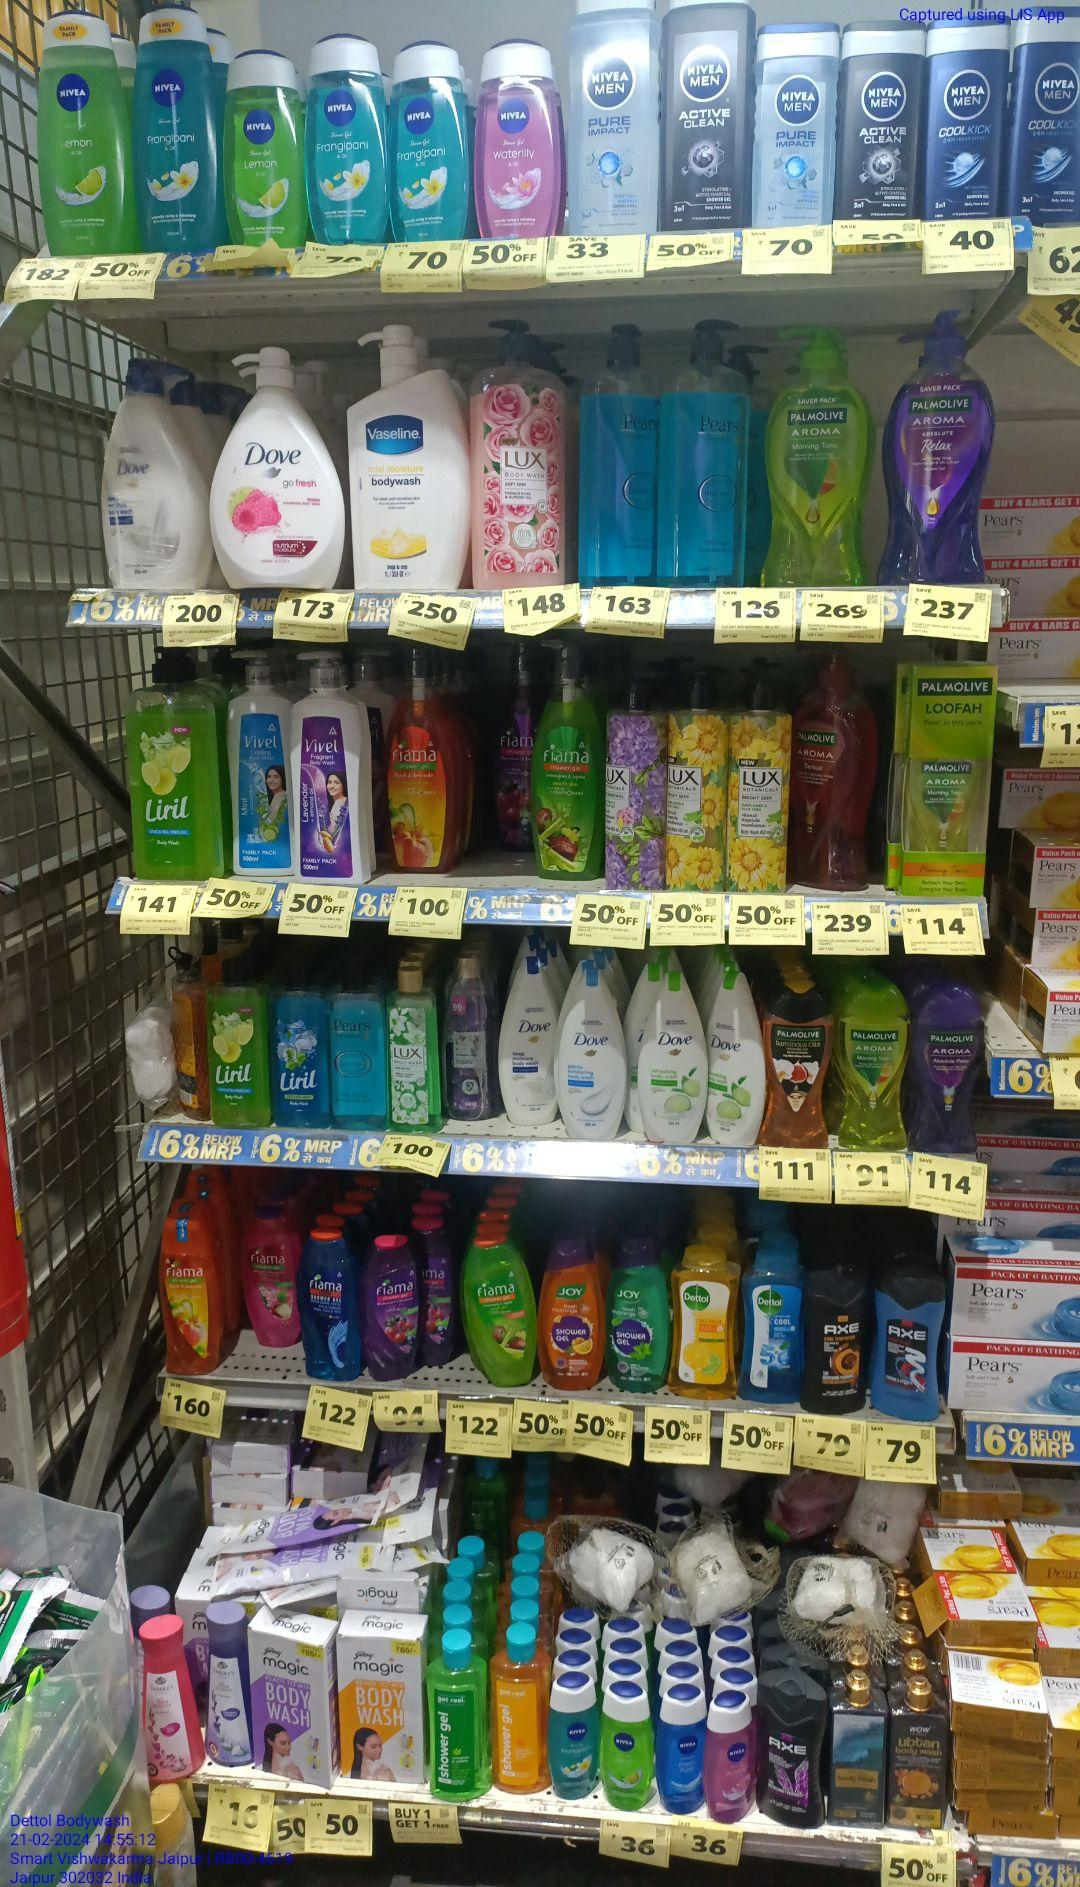Dettol_Bodywash_Cool: (738, 1247, 803, 1405)
Dettol_Bodywash_Refresh: (669, 1242, 738, 1402)
Dove_Deep_Moisture_Body_Wash_250ML: (498, 955, 556, 1126)
Dove_Gentle_Exfoliating_Body_Wash_250ML: (555, 966, 629, 1138)
Dove_Refreshing_Body_Wash_250ML: (638, 969, 709, 1143), (709, 969, 765, 1146)
Fiama_Shower_Gel_Lemongrass_and_Jojoba_250ML: (463, 1233, 537, 1387)
Joy_Shower_Gel_Mandarin_and_Lemongrass_250ML: (537, 1234, 604, 1393)
Joy_Shower_Gel_Mint_and_Eucalyptus_250ML: (605, 1235, 669, 1392)
Liril_Cooling_Mint_Body_Wash_250ML: (270, 971, 329, 1129)
Liril_Lime_and_Tea_Tree_Oil_Body_Wash_250ML: (206, 963, 271, 1129)
Lux_Black_Orchid_Scent_and_Juniper_Oil_Body_Wash_245ML: (445, 955, 498, 1121)
Lux_Body_Wash_Skin_Detox_Freesia_Scent_and_Alove_Vera_245ML: (385, 966, 443, 1133)
Nivea_Shower_Gel_Frangipani_and_Oil_250ML: (134, 3, 222, 251), (385, 38, 473, 242), (303, 31, 386, 246), (546, 1671, 599, 1799)
Nivea_Shower_Gel_Lemon_and_Oil_250ML: (39, 8, 131, 254), (220, 48, 306, 246), (600, 1680, 655, 1813)
Nivea_Shower_Gel_Waterlily_and_Oil_250ML: (473, 35, 564, 238), (705, 1689, 757, 1823)
Palmolive_Aroma_Morning_Tonic_Shower_Gel_250ML: (834, 973, 909, 1151)
Palmolive_Aroma_Relax_250ML: (911, 981, 987, 1150)
Palmolive_Luminous_Oils_With_White_Orchid_Shower_Gel_250ML: (764, 976, 832, 1151)
Pears_Pure_Glycerin_and_Mint_Extracts_Body_Wash_250ML: (328, 968, 386, 1131)
